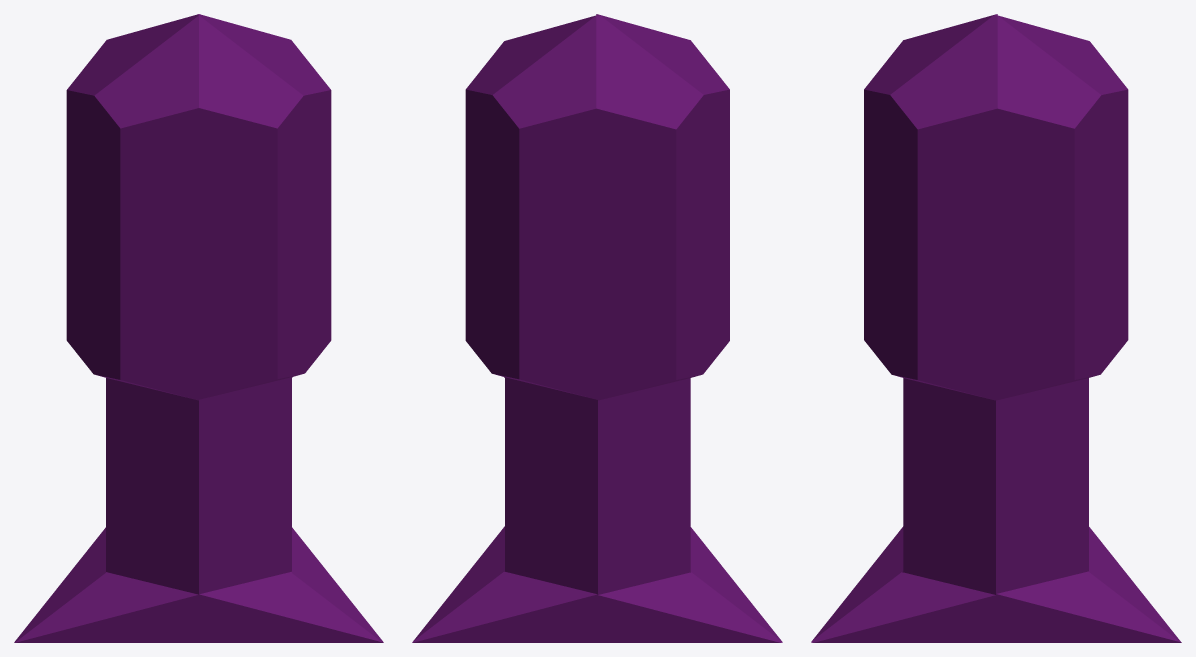
File: Fate Game Piece V4 Purple.glb
The picture shows the model from 3 angles, left to right: view 1: azimuth 30°, elevation 25°; view 2: azimuth 150°, elevation 25°; view 3: azimuth 270°, elevation 25°; orthographic projection.
Visible parts, largest first — view 1: Solid1; view 2: Solid1; view 3: Solid1.
Boxes of the visible parts, bbox=[...] form: Solid1: bbox=[14, 14, 383, 642]; Solid1: bbox=[412, 14, 782, 642]; Solid1: bbox=[811, 14, 1181, 642].
Size of the model in its own units: 0.019 by 0.0381 by 0.022.
